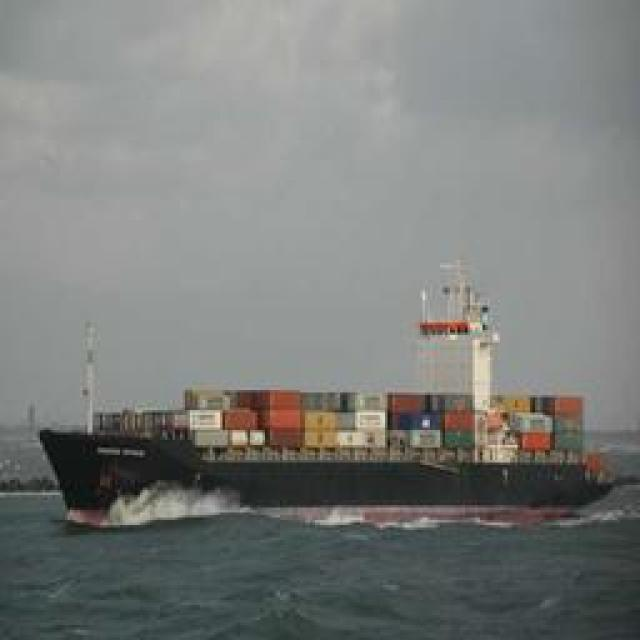CIV_Ship: (45, 402, 623, 516)
